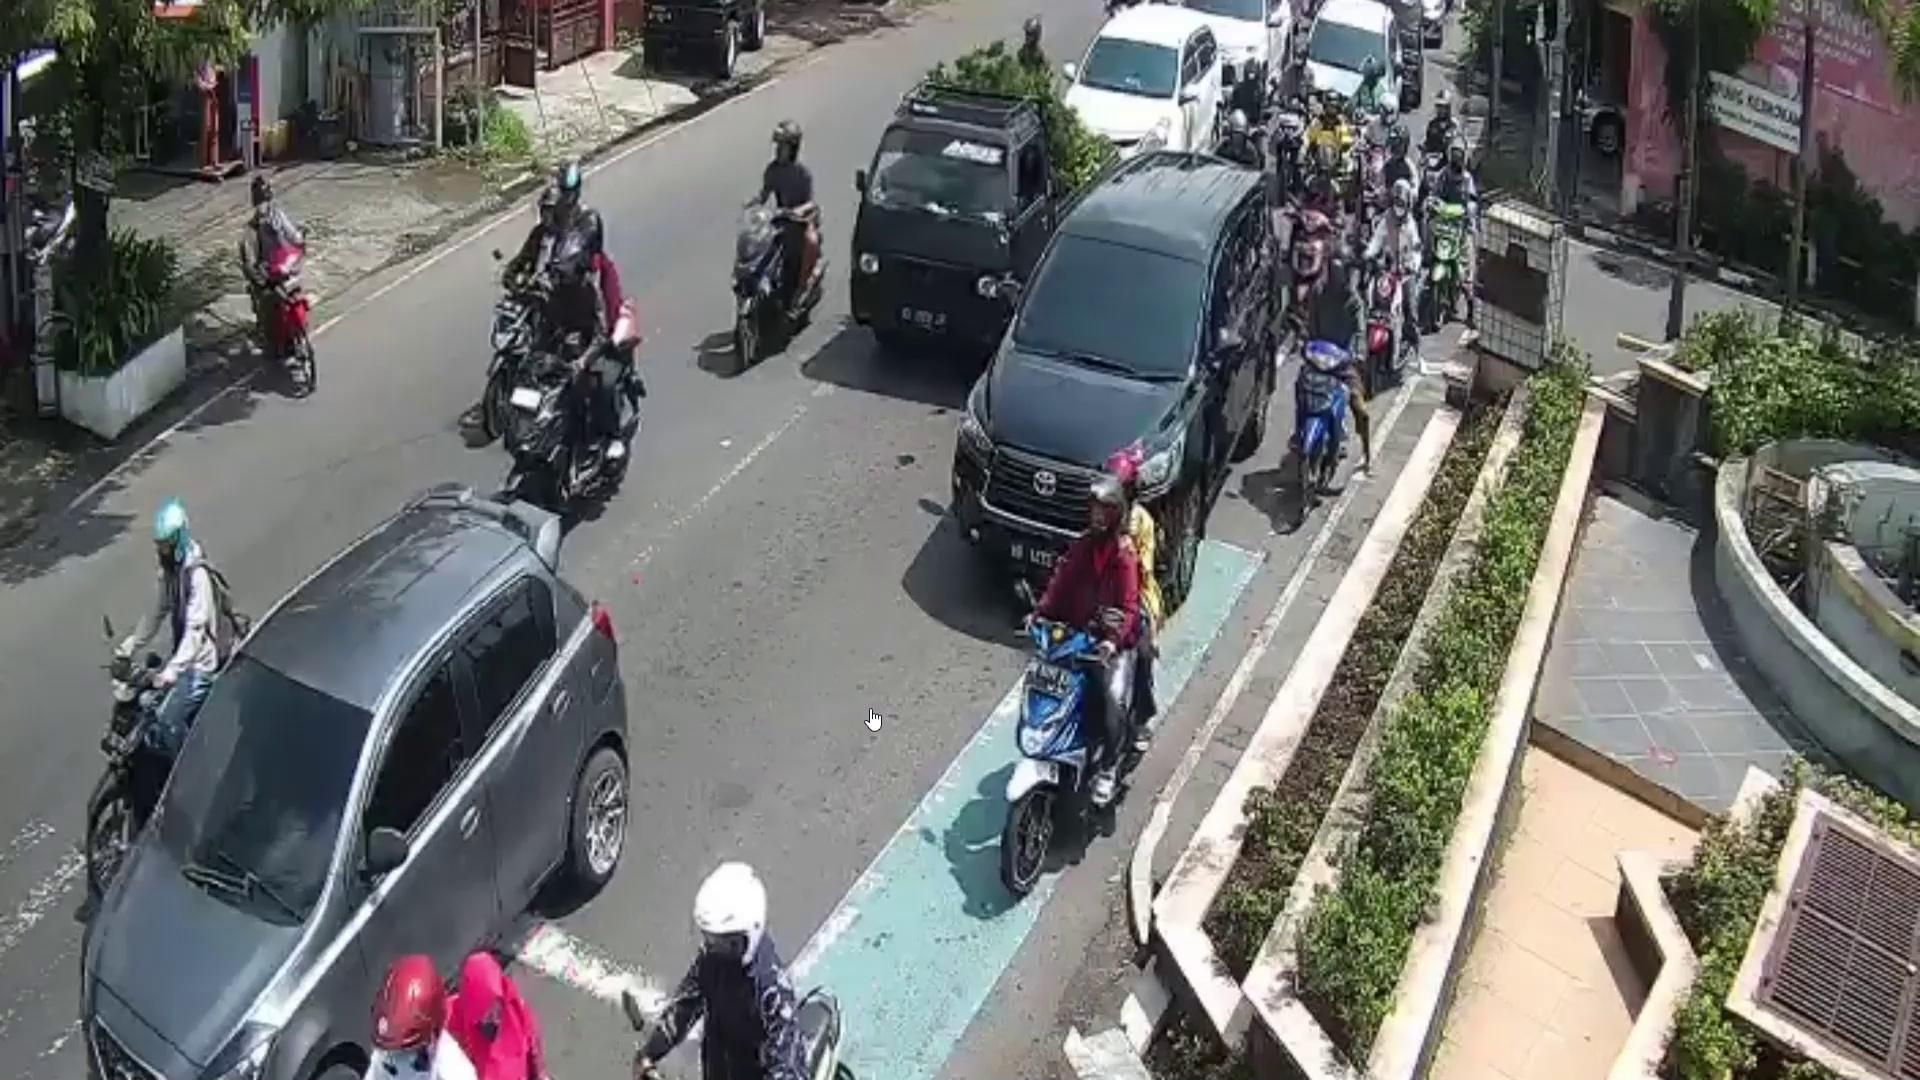car: (79, 481, 629, 1080), (949, 148, 1275, 605), (851, 71, 1127, 356), (1076, 0, 1229, 141), (1302, 0, 1406, 160), (1184, 0, 1295, 99)
motorbike: (1002, 620, 1109, 902), (502, 334, 638, 504), (84, 655, 175, 901), (731, 203, 824, 380), (251, 241, 316, 396), (1298, 339, 1349, 517), (1423, 198, 1482, 334), (1360, 258, 1410, 390)
